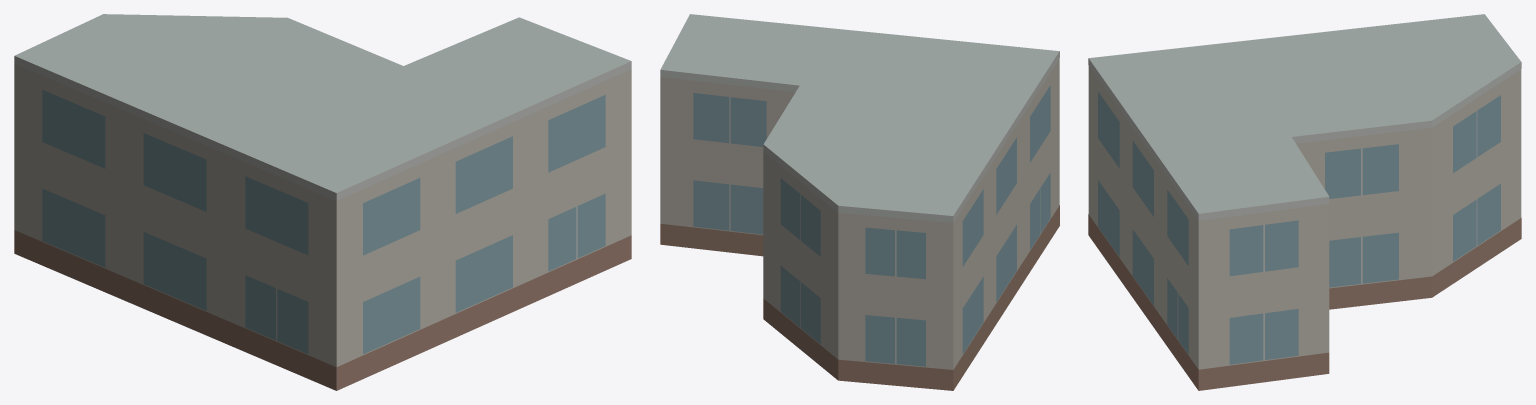
File: survey-upis-32662340.glb
3 renders of one model, left to right at view 1: azimuth 30°, elevation 25°; view 2: azimuth 150°, elevation 25°; view 3: azimuth 270°, elevation 25°, orthographic. The views are drawn at different scales.
Parts seen in each view (by area): view 1: survey-upis-32662340.tmp; view 2: survey-upis-32662340.tmp; view 3: survey-upis-32662340.tmp.
Boxes of the visible parts, x1,y1,x2,y2 form: survey-upis-32662340.tmp: (14, 14, 631, 390); survey-upis-32662340.tmp: (660, 14, 1059, 390); survey-upis-32662340.tmp: (1088, 14, 1521, 390).
Size of the model in its own units: 14.78 by 6.1 by 13.53.
